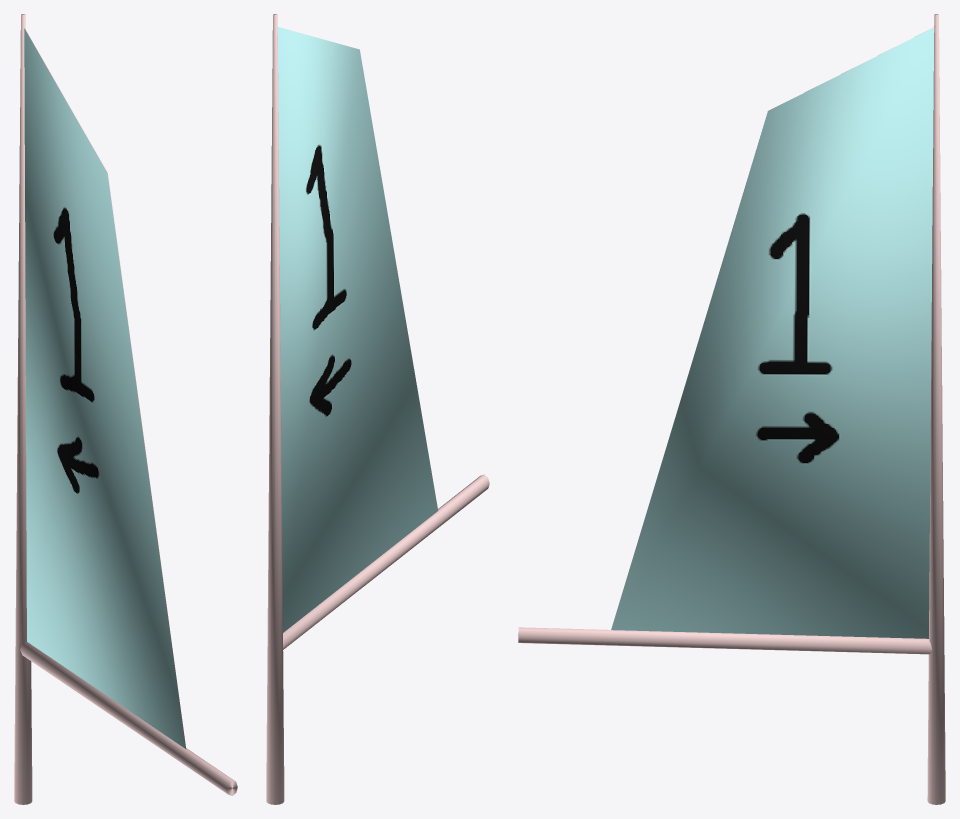
Rendered from sail.obj.
The picture shows the model from 3 angles, left to right: view 1: azimuth 30°, elevation 25°; view 2: azimuth 150°, elevation 25°; view 3: azimuth 270°, elevation 25°; orthographic projection.
Parts seen in each view (by area): view 1: Cylinder_Cylinder.003; view 2: Cylinder_Cylinder.003; view 3: Cylinder_Cylinder.003.
Part boxes in pixels (box(x1,y1,x2,y2)): Cylinder_Cylinder.003: box(14, 14, 237, 804); Cylinder_Cylinder.003: box(266, 14, 489, 804); Cylinder_Cylinder.003: box(518, 14, 945, 804).
Bounding box in the file's own units: 0.1688 × 8 × 3.94.
1 material, 1 textured.
